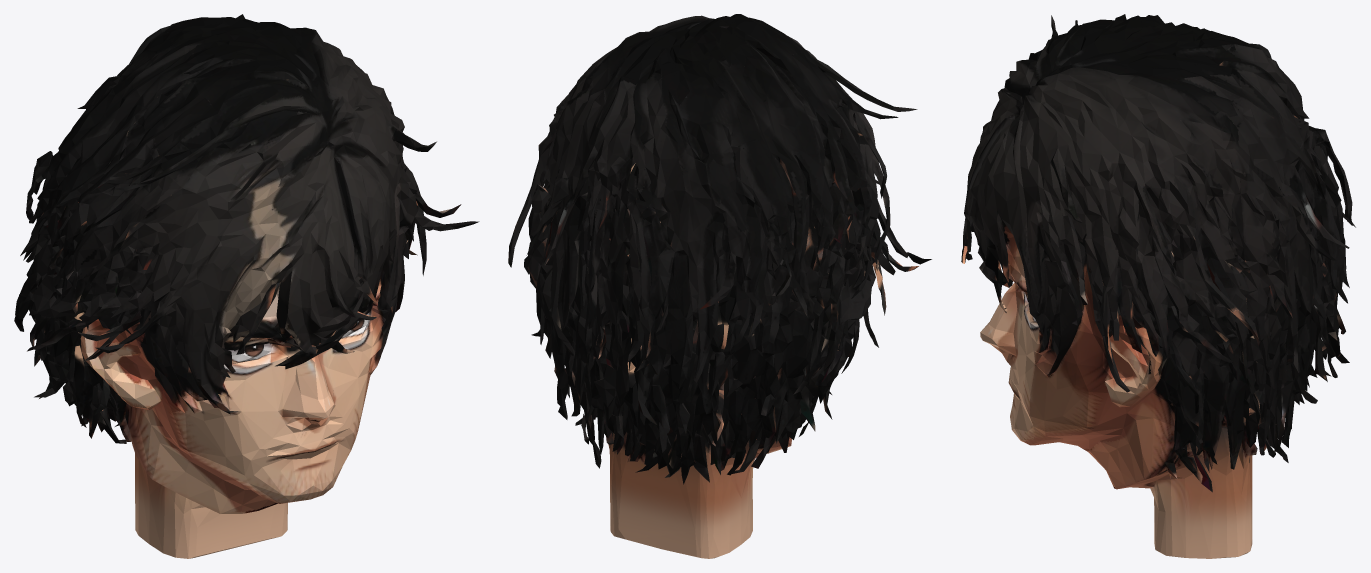
Rendered from side_h_yari_repaired_atlas.glb.
3 views of the same model, side by side, from view 1: azimuth 30°, elevation 25°; view 2: azimuth 150°, elevation 25°; view 3: azimuth 270°, elevation 25° (orthographic). The views are drawn at different scales.
Visible parts, largest first — view 1: temp_mesh.ply; view 2: temp_mesh.ply; view 3: temp_mesh.ply.
Part boxes in pixels (x1,y1,x2,y2): temp_mesh.ply: (14,14,479,558); temp_mesh.ply: (508,14,931,558); temp_mesh.ply: (961,14,1355,558).
Bounding box in the file's own units: 1.61 × 1.97 × 1.41.
Materials: 1 (1 with a texture image).
